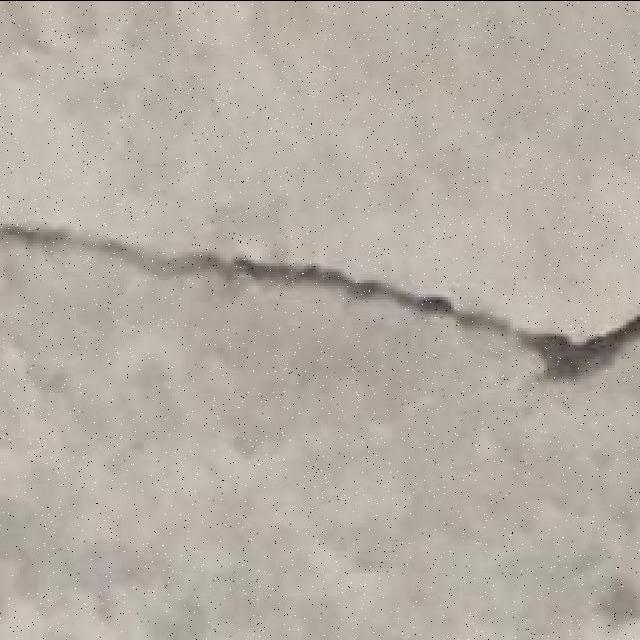crack: (1, 222, 638, 384), (0, 218, 219, 276)
